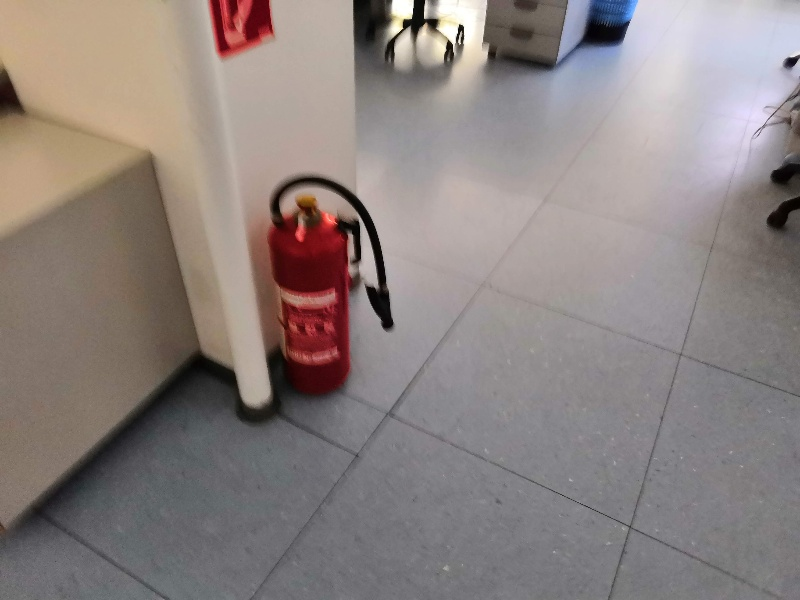vataparat: (268, 175, 395, 394)
